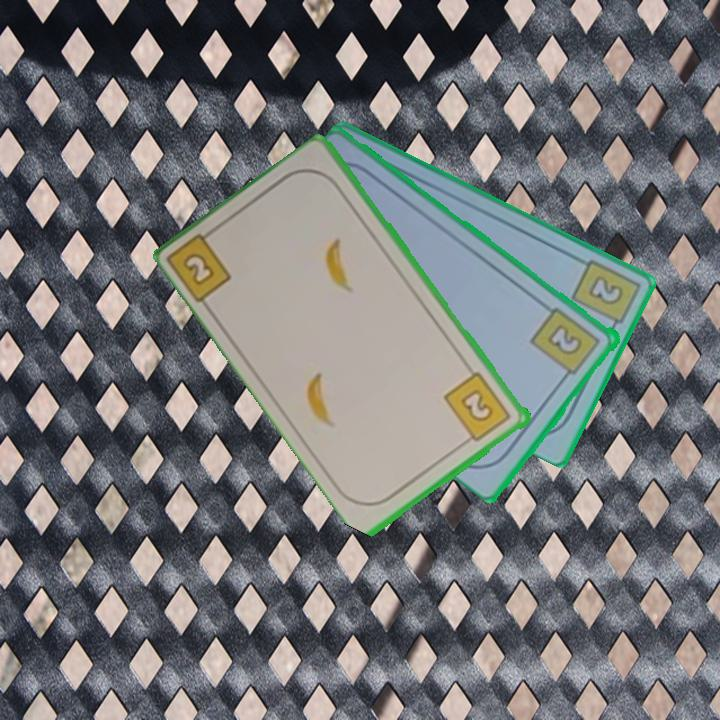2b: (527, 304, 604, 384), (568, 255, 643, 337), (440, 368, 515, 448), (166, 222, 235, 307)
